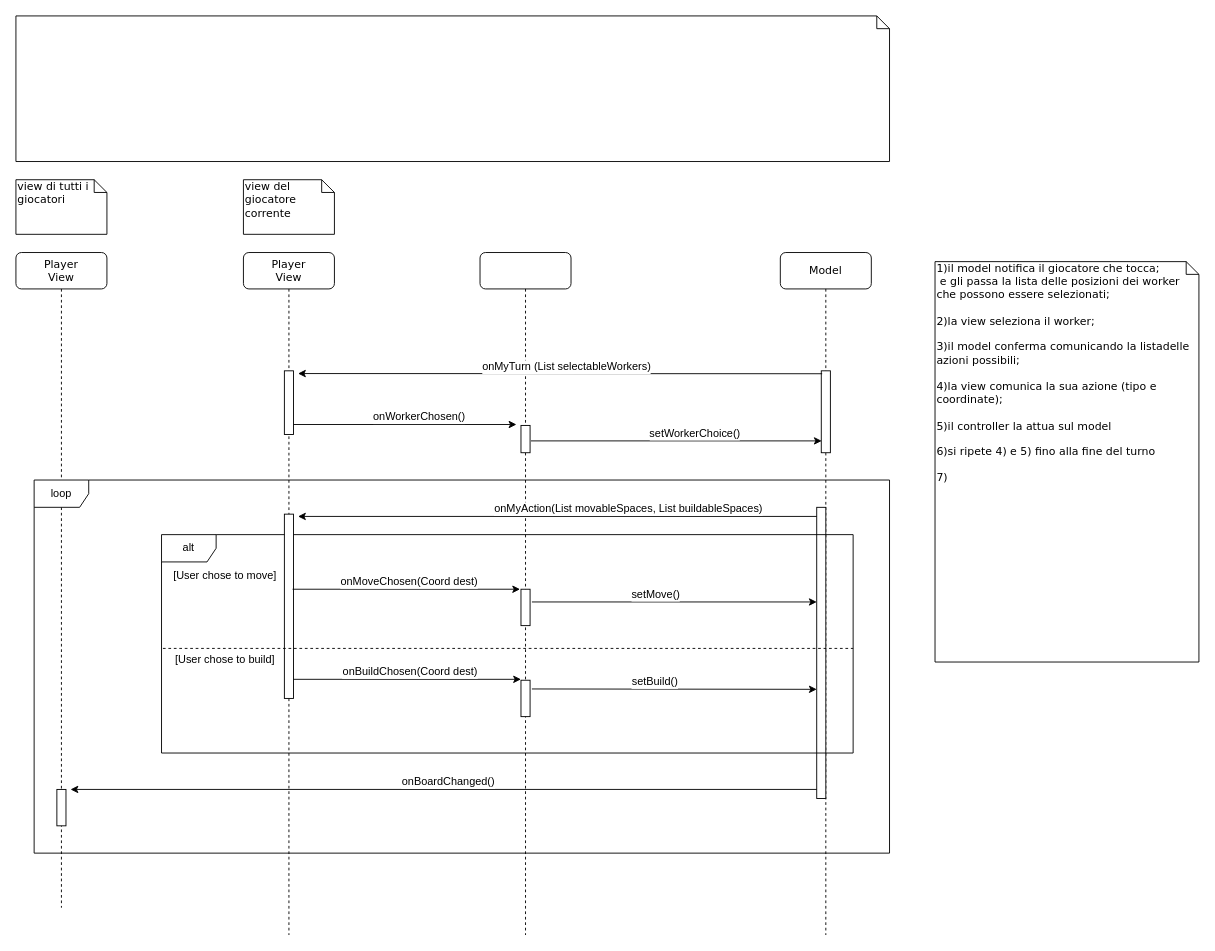
Some shapes in this 1215 by 951 pixel diagram are drawn without their labels. Here are the shapes that lost their labels. From the top down, the centre of each, then its label:
At point (452, 88): "TURNO DI GIOCO".
At point (525, 593): "Controller".
